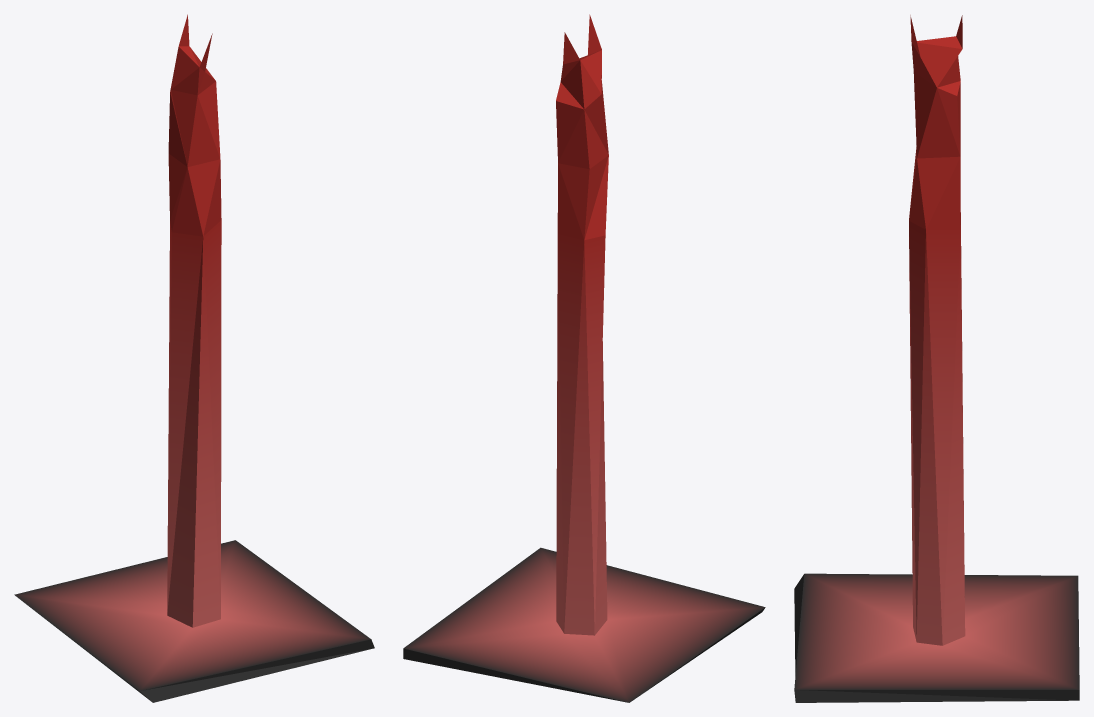
The model's file is delineator.lod2.glb.
3 renders of one model, left to right at view 1: azimuth 30°, elevation 25°; view 2: azimuth 150°, elevation 25°; view 3: azimuth 270°, elevation 25°, orthographic. The views are drawn at different scales.
Parts seen in each view (by area): view 1: Object_4; view 2: Object_4; view 3: Object_4.
Part boxes in pixels (x1,y1,x2,y2): Object_4: (14,14,374,702); Object_4: (403,14,765,702); Object_4: (794,15,1079,702).
Bounding box in the file's own units: 0.4409 × 1.1 × 0.4489.
